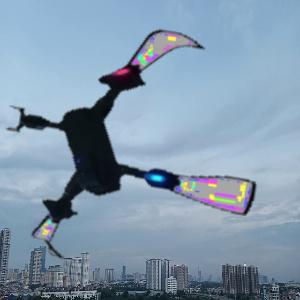drone: (1, 10, 266, 275)
